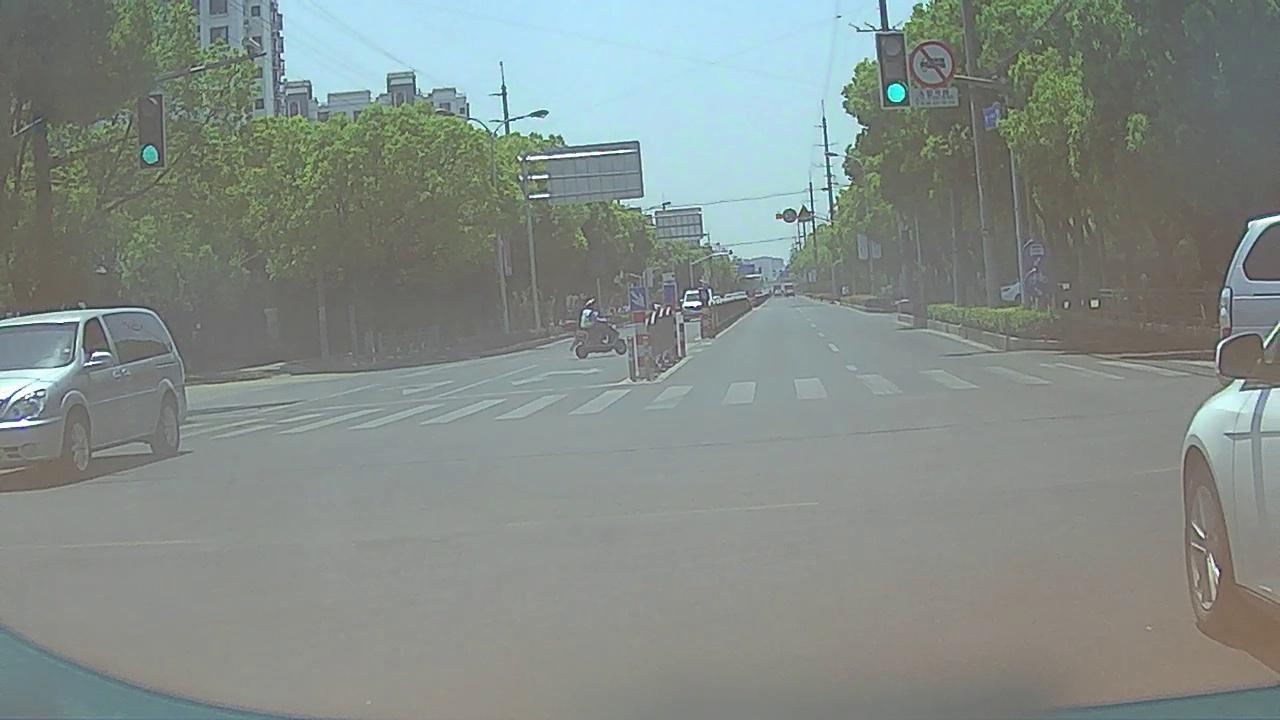traffic_light: (878, 35, 909, 107), (140, 97, 163, 166)
